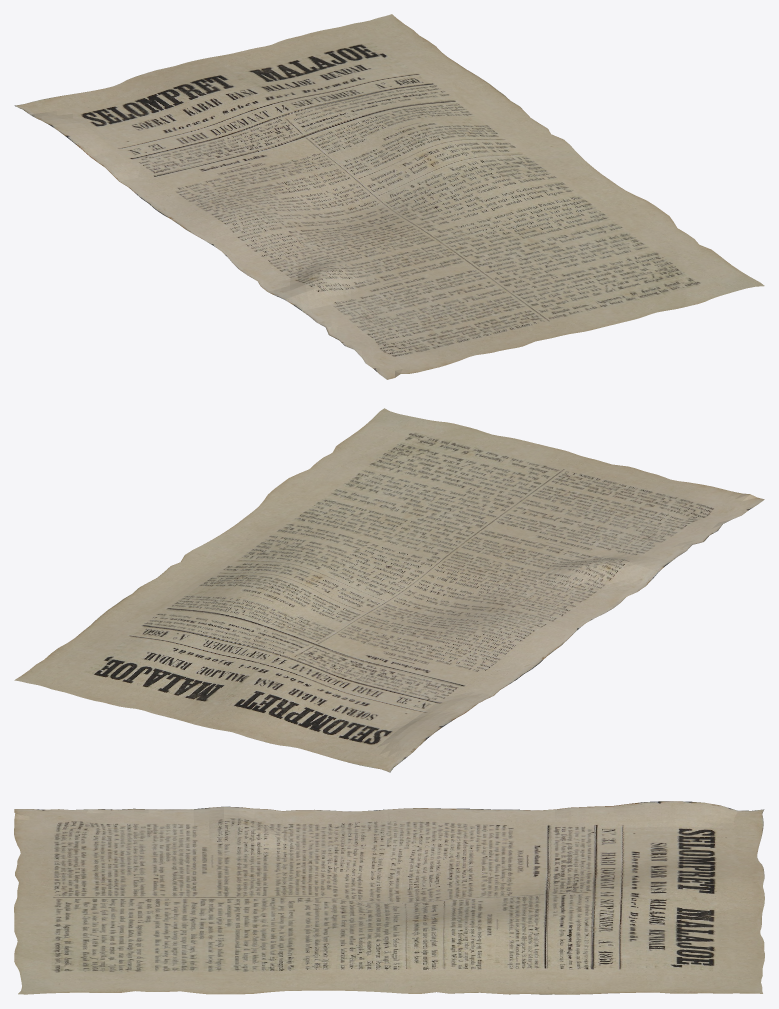
The model's file is old paper.obj.
3 views of the same model, one above another, from view 1: azimuth 30°, elevation 25°; view 2: azimuth 150°, elevation 25°; view 3: azimuth 270°, elevation 25° (orthographic).
Parts seen in each view (by area): view 1: Plane; view 2: Plane; view 3: Plane.
Part boxes in pixels (x1,y1,x2,y2): Plane: (14, 14, 764, 379); Plane: (14, 408, 764, 772); Plane: (14, 801, 764, 994).
Bounding box in the file's own units: 0.1243 × 0.00683 × 0.2122.
Materials: 1 (1 with a texture image).
